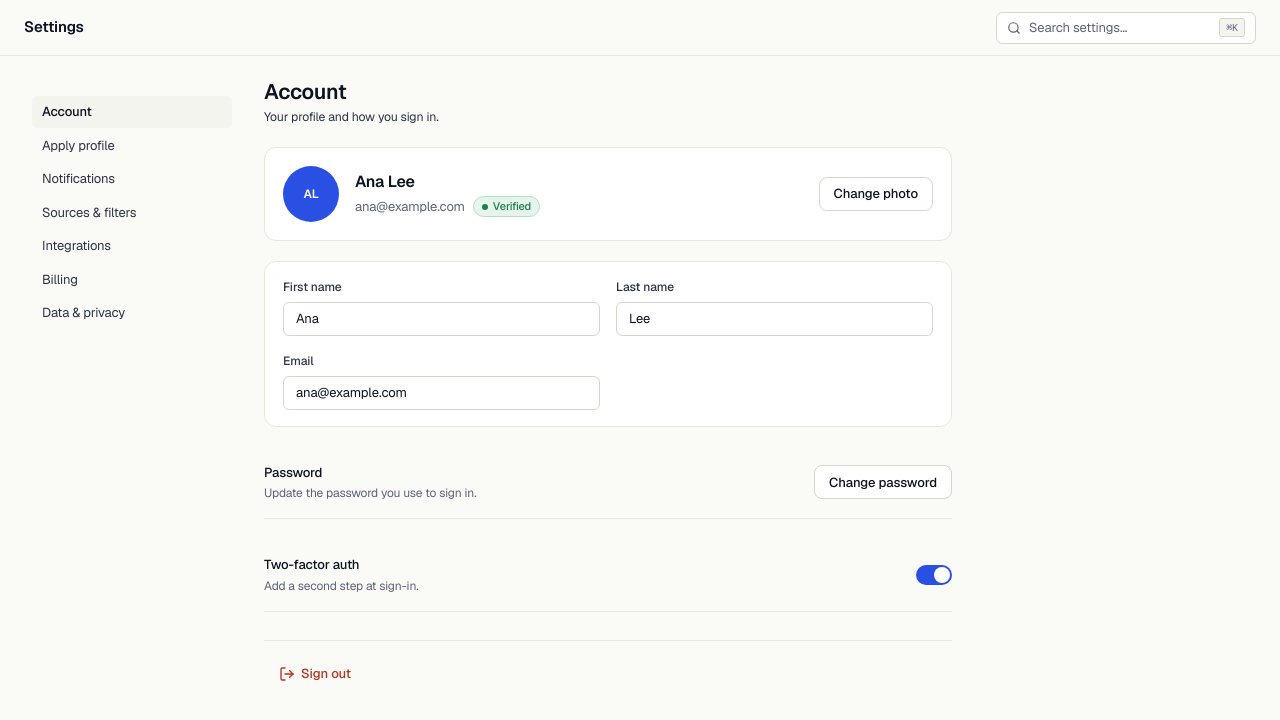
Test case: TC-FE-2FA-03: disabling 2FA requires a TOTP code input › shows an error and allows retry on a wrong code (401)
Click the switch named "two-factor auth": (934,575) [916, 565, 952, 585]
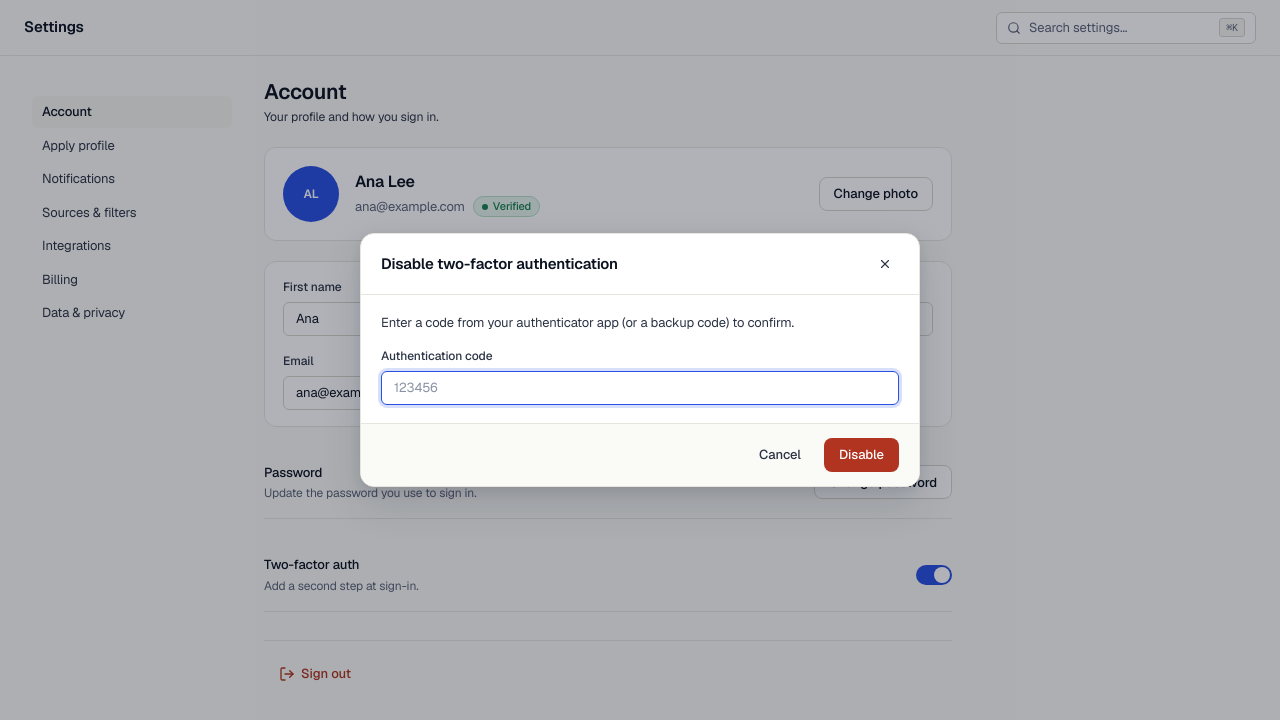
In the field named "authentication code": (640,388) [381, 371, 899, 405], type "000000"
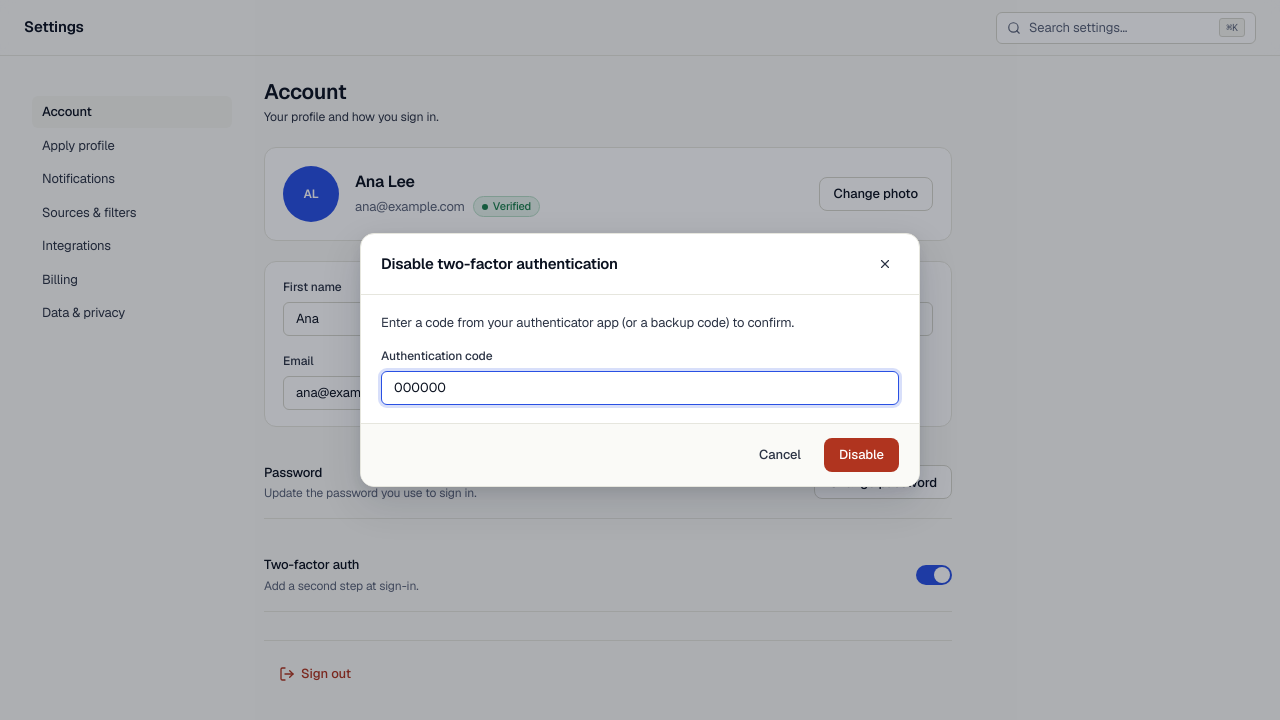
Click the button "Disable": (862,455) [824, 438, 899, 472]
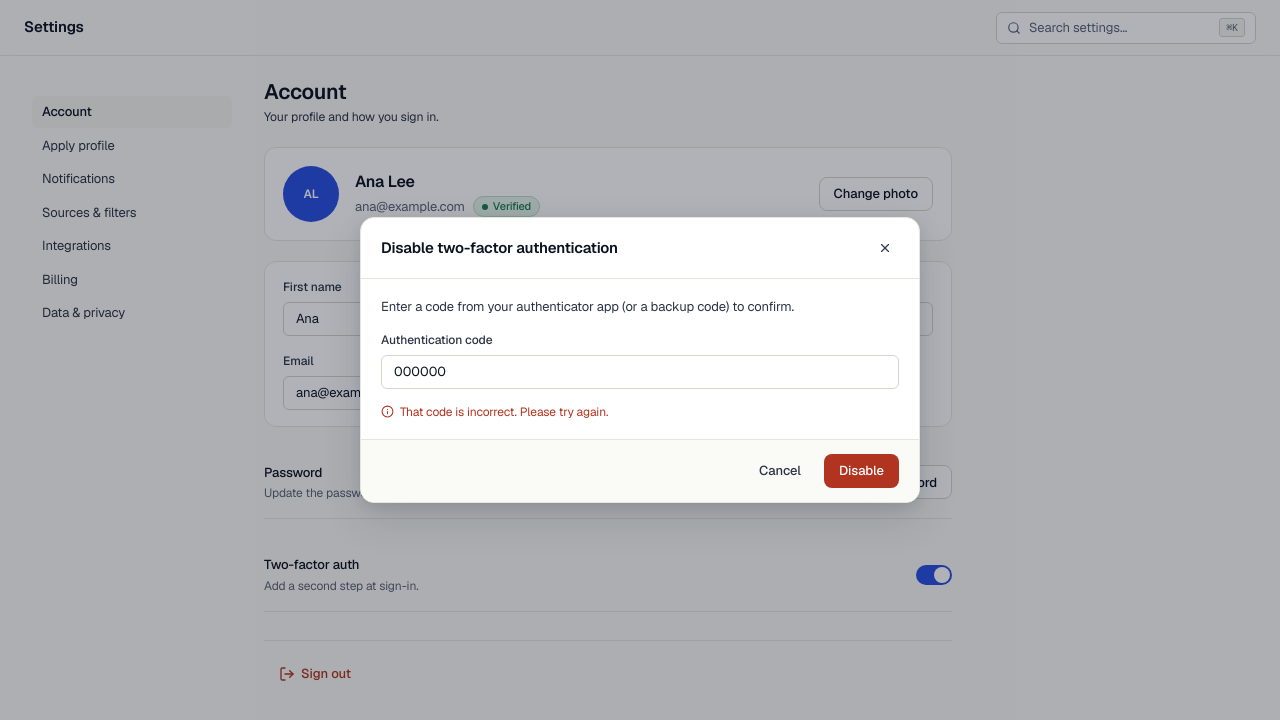
Check: the message shows "incorrect", box [400, 404, 608, 420]
